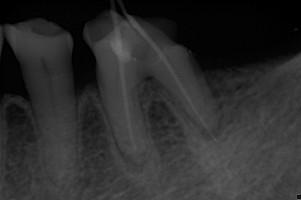Furcation Involvement: (116, 142, 145, 176), (201, 108, 226, 141)
